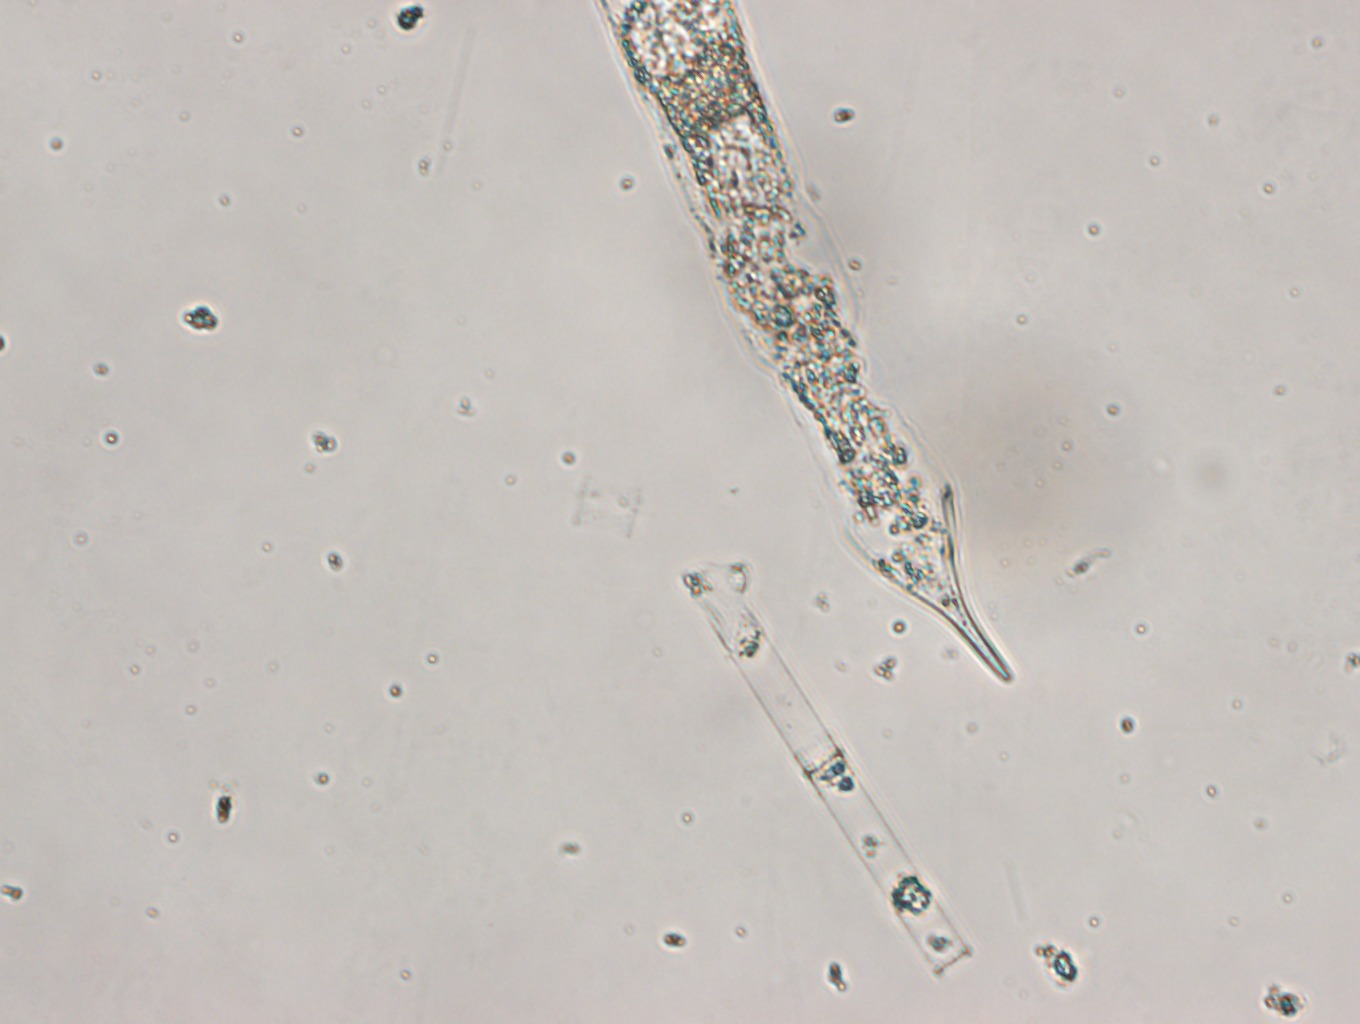rhizosolenia: (591, 1, 1017, 684)
skeletonema: (681, 558, 970, 975)
